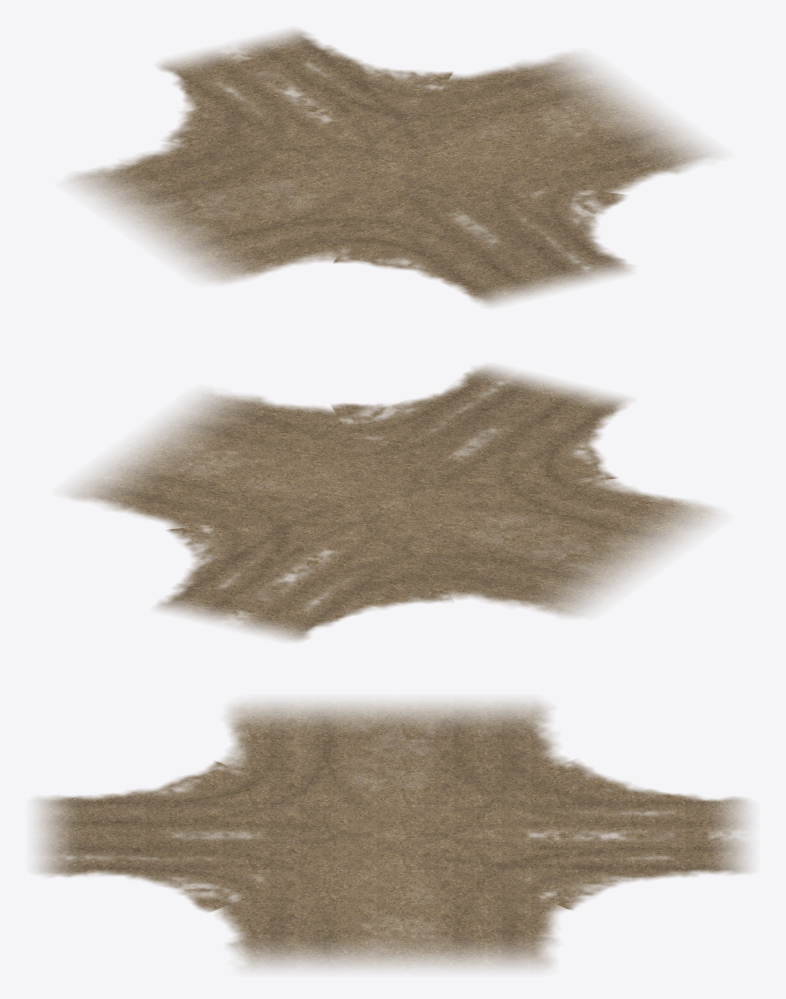
The model's file is road_cross_main_street.glb.
3 views of the same model, one above another, from view 1: azimuth 30°, elevation 25°; view 2: azimuth 150°, elevation 25°; view 3: azimuth 270°, elevation 25° (orthographic). The views are drawn at different scales.
Parts seen in each view (by area): view 1: road_cross_main_street; view 2: road_cross_main_street; view 3: road_cross_main_street.
Boxes of the visible parts, box(x1,y1,x2,y2) form: road_cross_main_street: box(69, 29, 716, 306); road_cross_main_street: box(66, 365, 718, 641); road_cross_main_street: box(35, 701, 750, 969).
Bounding box in the file's own units: 22.92 × 0 × 24.58.
Materials: 1 (1 with a texture image).
